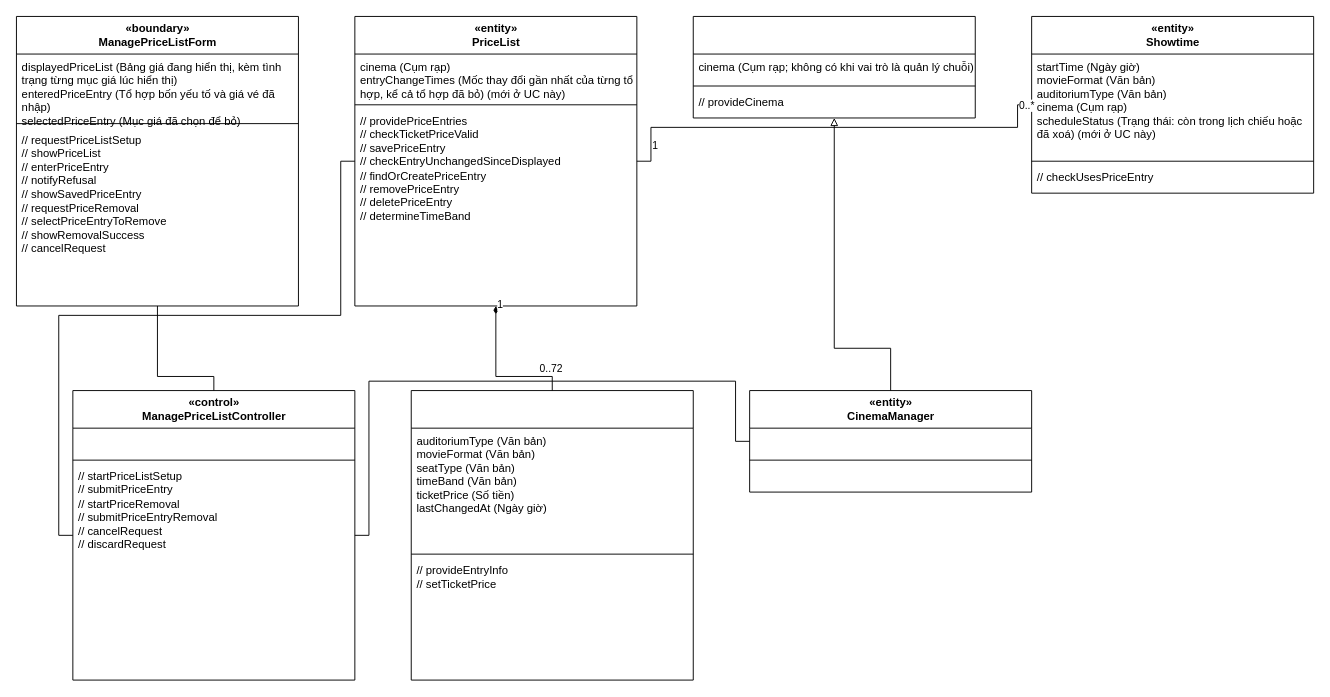
This 1330x697 diagram has some shape labels left out. Here are the shapes that lost their labels. From the top down, the box of each, then its label:
(692, 16, 975, 118): «entity» Staff
(410, 390, 693, 680): «entity» PriceEntry
